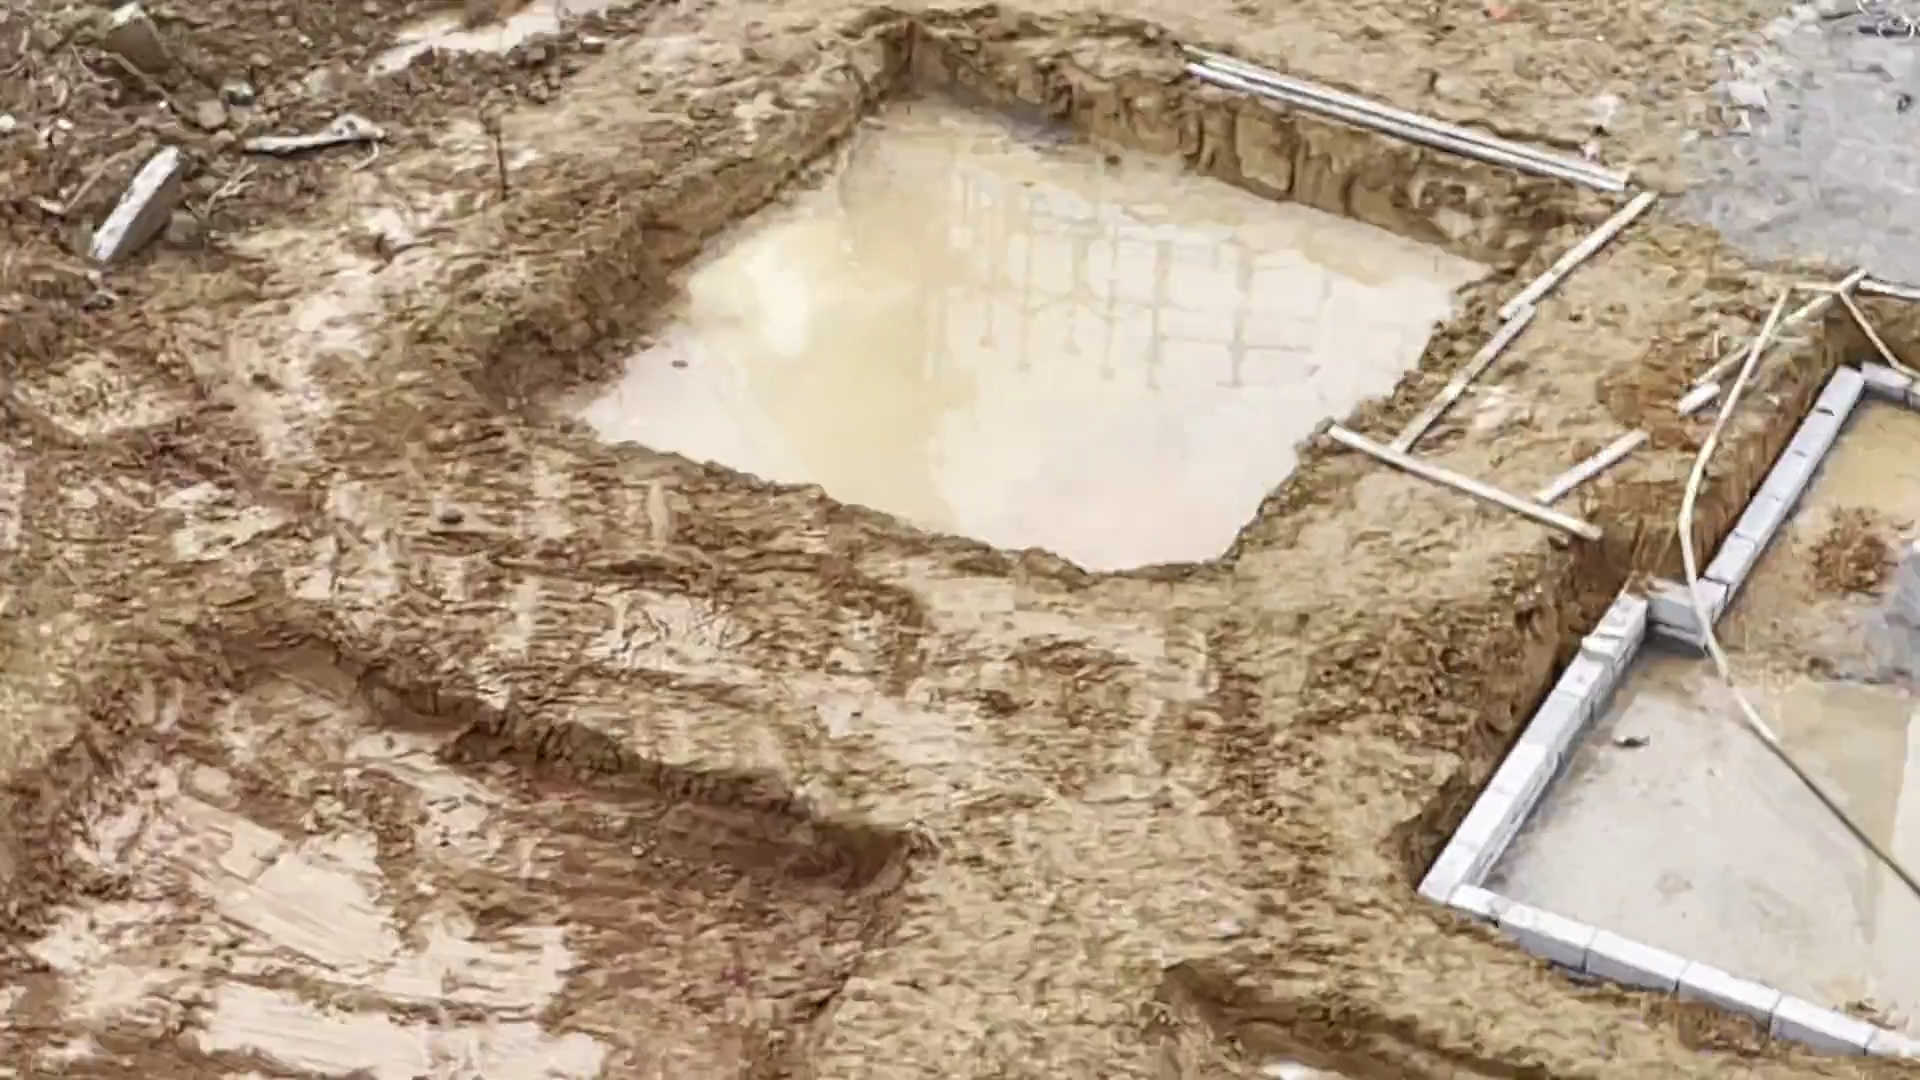brick: (1449, 889, 1917, 1077), (1429, 608, 1630, 905), (1664, 371, 1851, 630)
